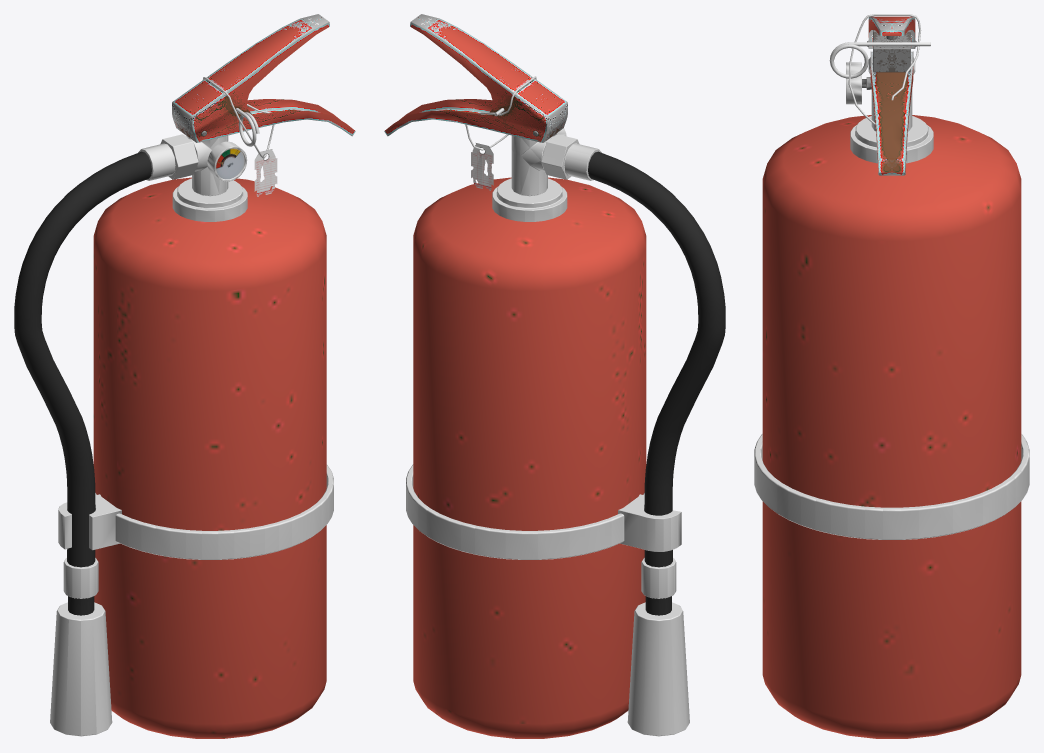
File: fire_extinguisher.fbx
3 renders of one model, left to right at view 1: azimuth 30°, elevation 25°; view 2: azimuth 150°, elevation 25°; view 3: azimuth 270°, elevation 25°, orthographic. The views are drawn at different scales.
Visible parts, largest first — view 1: FireExtunguisher; view 2: FireExtunguisher; view 3: FireExtunguisher.
Part boxes in pixels (x1,y1,x2,y2): FireExtunguisher: [14, 14, 355, 738]; FireExtunguisher: [384, 14, 725, 738]; FireExtunguisher: [754, 14, 1029, 738].
Size of the model in its own units: 27.43 by 51.05 by 17.61.
3 materials, 1 textured.
